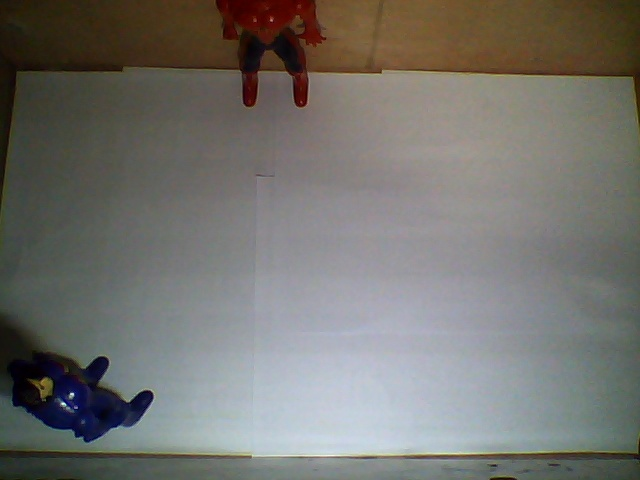human_figure: (10, 353, 155, 443), (215, 1, 325, 109)
